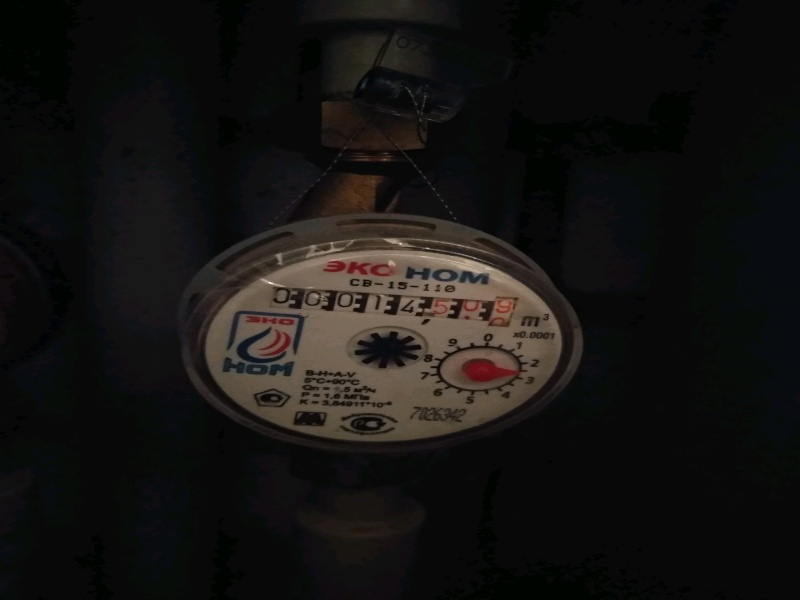meter: (268, 282, 522, 326)
